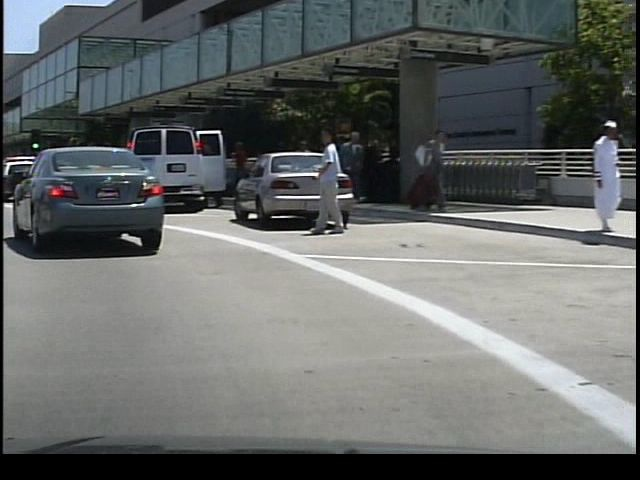person: (579, 119, 619, 235), (305, 124, 343, 238), (409, 124, 443, 215), (339, 126, 369, 210), (225, 137, 248, 203)
